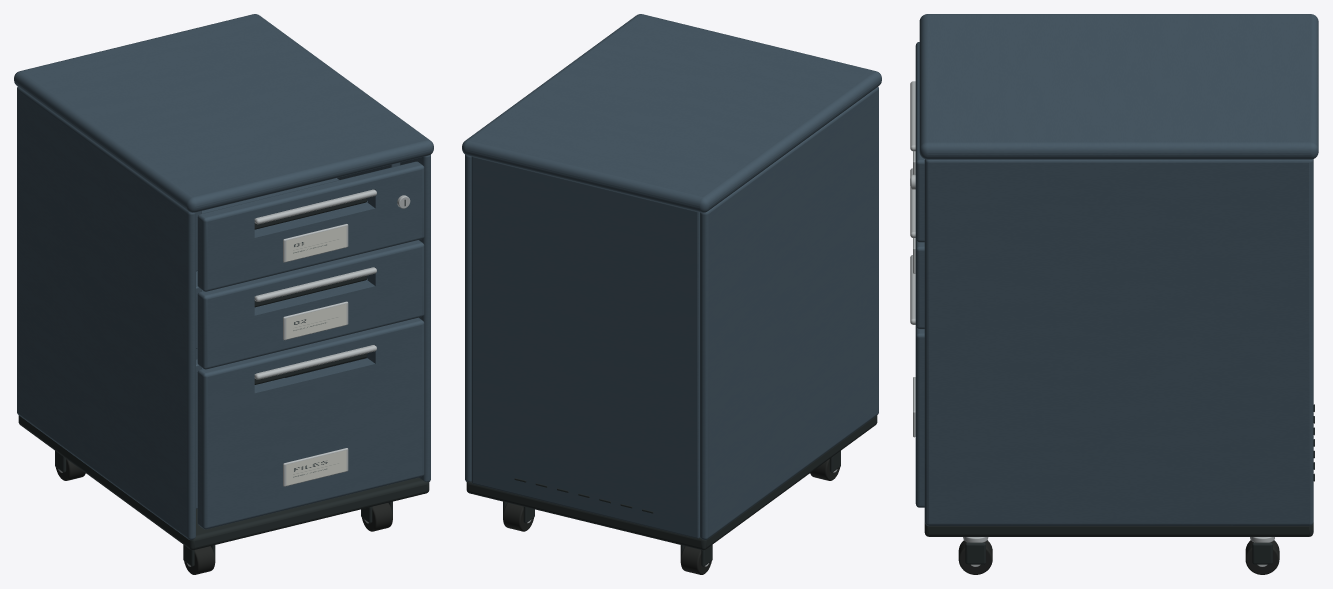
The model's file is filing-cabinet.glb.
3 renders of one model, left to right at view 1: azimuth 30°, elevation 25°; view 2: azimuth 150°, elevation 25°; view 3: azimuth 270°, elevation 25°, orthographic. The views are drawn at different scales.
Parts seen in each view (by area): view 1: Case | folded steel side, Case | radiused steel top, Drawer 2 | folded front, Drawer 0 | folded front, Drawer 1 | folded front, Chassis | folded bottom, Case | folded steel side.001, Drawer 2 | printed archive label, Drawer 0 | printed archive label, Drawer 1 | printed archive label, Drawer 0 | inset stainless pull, Drawer 2 | inset stainless pull (+7 smaller); view 2: Case | rear steel sheet, Case | folded steel side, Case | radiused steel top, Chassis | folded bottom, Case | folded steel side.001, Caster | rubber wheel.001, Caster | rubber wheel.003; view 3: Case | folded steel side.001, Case | radiused steel top, Chassis | folded bottom, Drawer 2 | folded front, Drawer 0 | folded front, Drawer 1 | folded front, Caster | rubber wheel.003, Caster | rubber wheel.002.
Part boxes in pixels (bbox=[...]): Case | folded steel side: bbox=[17, 87, 195, 539]; Case | radiused steel top: bbox=[14, 14, 433, 212]; Drawer 2 | folded front: bbox=[197, 317, 424, 529]; Drawer 0 | folded front: bbox=[197, 161, 424, 291]; Drawer 1 | folded front: bbox=[197, 240, 424, 369]; Chassis | folded bottom: bbox=[18, 415, 429, 550]; Case | folded steel side.001: bbox=[400, 154, 430, 481]; Drawer 2 | printed archive label: bbox=[286, 450, 346, 485]; Drawer 0 | printed archive label: bbox=[286, 226, 346, 261]; Drawer 1 | printed archive label: bbox=[286, 303, 346, 339]; Drawer 0 | inset stainless pull: bbox=[254, 189, 376, 224]; Drawer 2 | inset stainless pull: bbox=[254, 345, 376, 379]; Case | rear steel sheet: bbox=[471, 156, 699, 538]; Case | folded steel side: bbox=[700, 87, 878, 539]; Case | radiused steel top: bbox=[462, 14, 881, 212]; Chassis | folded bottom: bbox=[466, 415, 877, 550]; Case | folded steel side.001: bbox=[465, 154, 471, 481]; Caster | rubber wheel.001: bbox=[680, 546, 711, 574]; Caster | rubber wheel.003: bbox=[503, 503, 533, 531]; Case | folded steel side.001: bbox=[924, 159, 1313, 525]; Case | radiused steel top: bbox=[919, 14, 1318, 159]; Chassis | folded bottom: bbox=[924, 522, 1313, 536]; Drawer 2 | folded front: bbox=[915, 326, 924, 507]; Drawer 0 | folded front: bbox=[915, 42, 924, 242]; Drawer 1 | folded front: bbox=[915, 239, 924, 329]; Caster | rubber wheel.003: bbox=[1245, 540, 1279, 574]; Caster | rubber wheel.002: bbox=[958, 540, 992, 574].
Bounding box in the file's own units: 0.43 × 0.6625 × 0.5525.
5 materials, 2 textured.
